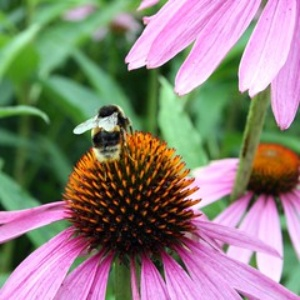bee: (74, 104, 131, 161)
